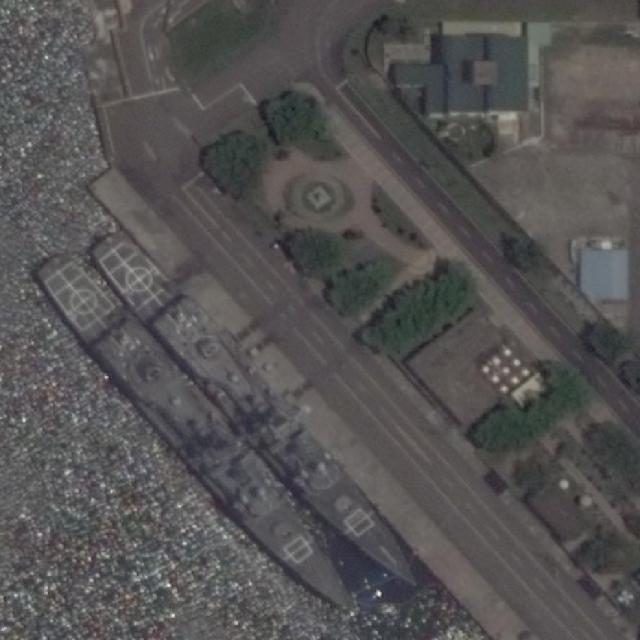Frigate: (85, 221, 435, 606), (29, 244, 374, 628)
